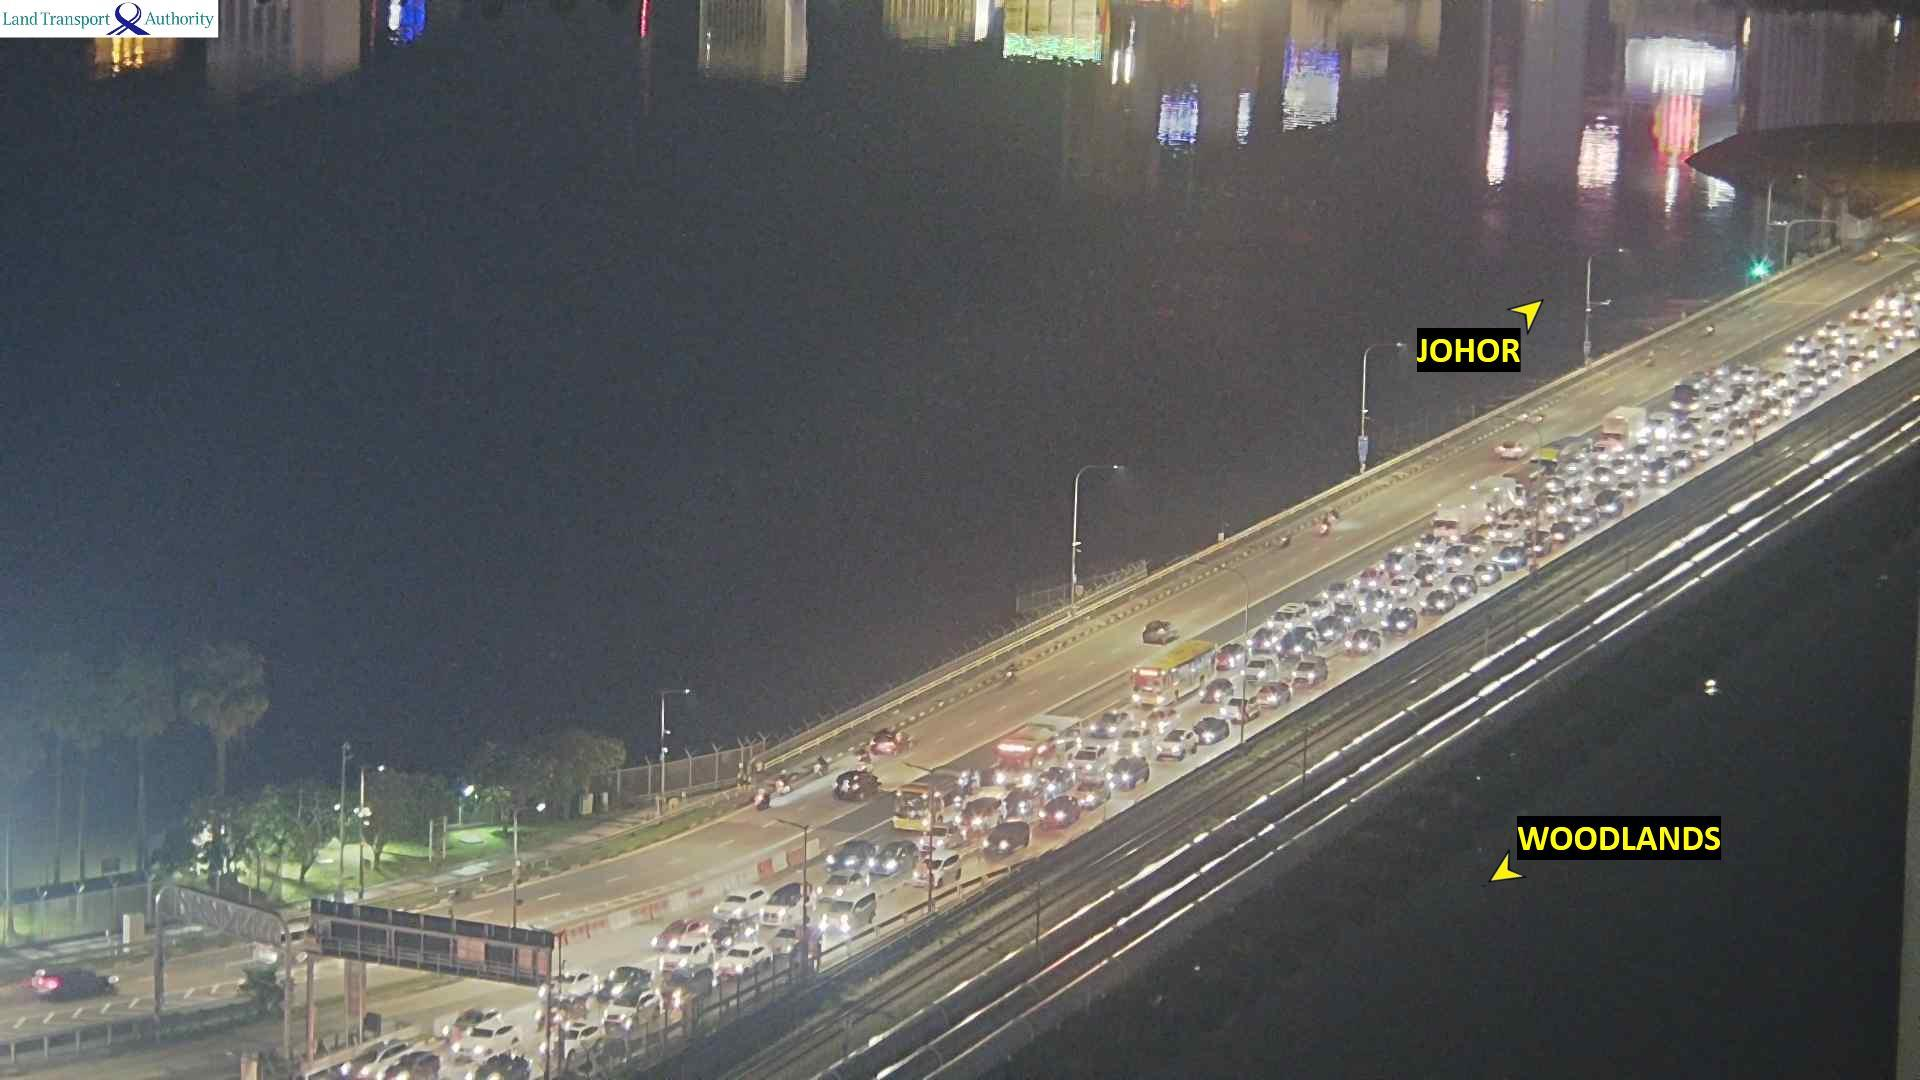vehicle-causeway-johor: (28, 971, 116, 1001), (832, 771, 877, 802), (873, 731, 915, 754), (1142, 618, 1174, 642), (1495, 438, 1527, 459), (748, 789, 769, 815), (775, 770, 796, 796), (1320, 512, 1338, 535), (1518, 409, 1547, 423), (814, 754, 832, 777), (852, 745, 869, 767), (1280, 530, 1295, 553), (1646, 349, 1659, 364), (1005, 661, 1015, 678), (1871, 249, 1879, 260), (1708, 323, 1716, 332), (1886, 237, 1892, 245)
vehicle-causeway-singapore: (994, 717, 1087, 782), (1131, 644, 1232, 696), (890, 767, 957, 829), (339, 1050, 442, 1079), (815, 890, 874, 936), (455, 1022, 518, 1060), (1594, 409, 1646, 455), (758, 884, 814, 926), (542, 967, 601, 1005), (651, 919, 712, 953), (545, 1023, 601, 1059), (1249, 624, 1308, 657), (662, 967, 709, 1006), (713, 943, 770, 976), (443, 1007, 501, 1039), (605, 993, 663, 1025), (467, 1054, 531, 1080), (535, 997, 591, 1027), (715, 890, 767, 922), (601, 967, 657, 996), (818, 869, 860, 906), (870, 841, 914, 877), (914, 851, 959, 885), (663, 943, 711, 975), (829, 841, 876, 873), (984, 823, 1030, 853), (955, 799, 998, 829), (1001, 787, 1042, 818), (864, 855, 915, 878), (1106, 762, 1154, 787), (1290, 657, 1328, 687), (1088, 711, 1131, 736), (1069, 746, 1105, 777), (1039, 798, 1076, 827), (1216, 700, 1262, 723), (1154, 741, 1203, 762), (709, 926, 758, 945), (1192, 717, 1228, 744), (1373, 608, 1416, 629), (920, 825, 961, 848), (1114, 731, 1151, 754), (1075, 781, 1108, 807), (1487, 547, 1530, 567), (1672, 385, 1702, 411), (1346, 632, 1381, 654), (1275, 605, 1308, 628), (1254, 687, 1294, 705), (1358, 592, 1390, 613), (1422, 592, 1453, 612), (1640, 464, 1672, 484), (1149, 708, 1178, 729), (1244, 662, 1276, 680), (1584, 467, 1617, 485), (1791, 368, 1824, 385), (1441, 549, 1468, 570), (1354, 571, 1383, 589), (1316, 617, 1341, 638), (1535, 500, 1560, 521), (1447, 578, 1474, 596), (1328, 582, 1352, 603), (1669, 451, 1693, 472), (1727, 418, 1751, 439), (1565, 488, 1594, 505), (1522, 533, 1547, 553), (1568, 509, 1593, 529), (1795, 349, 1820, 369), (1611, 481, 1639, 498), (1473, 566, 1497, 585), (1597, 497, 1621, 517), (1332, 607, 1357, 625), (1304, 599, 1329, 617), (1491, 524, 1516, 542), (1433, 521, 1455, 542), (1382, 553, 1404, 572), (1549, 524, 1572, 543), (1391, 576, 1415, 595), (1793, 380, 1820, 396), (1415, 537, 1437, 555), (1414, 567, 1437, 584), (1704, 431, 1727, 448), (1737, 390, 1762, 406), (1845, 352, 1865, 372), (1671, 425, 1693, 442), (1766, 373, 1788, 390), (1878, 338, 1898, 356), (1785, 340, 1811, 355), (1822, 359, 1840, 380), (1853, 305, 1875, 320), (1821, 320, 1844, 335), (1895, 326, 1919, 339), (1841, 334, 1862, 348), (1874, 298, 1902, 309), (1739, 367, 1759, 380), (1468, 538, 1484, 554), (1890, 309, 1913, 319), (1826, 345, 1845, 359), (1873, 314, 1888, 328), (1865, 347, 1878, 364)
